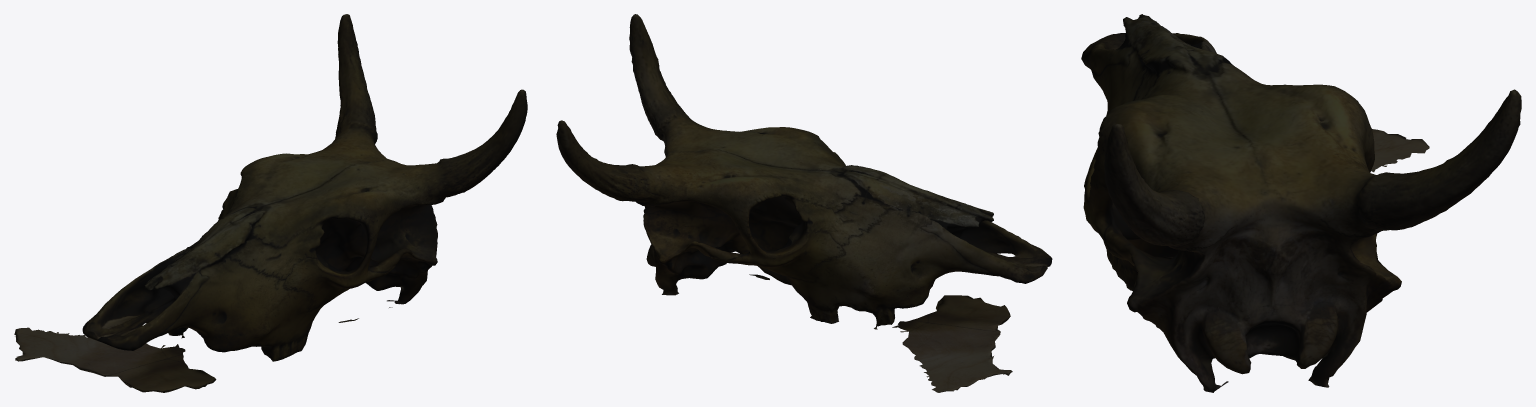
Rendered from model_obj-kalmyk.glb.
3 views of the same model, side by side, from view 1: azimuth 30°, elevation 25°; view 2: azimuth 150°, elevation 25°; view 3: azimuth 270°, elevation 25° (orthographic). The views are drawn at different scales.
Parts seen in each view (by area): view 1: Node1; view 2: Node1; view 3: Node1.
Boxes of the visible parts, bbox=[...] form: Node1: bbox=[14, 14, 527, 392]; Node1: bbox=[556, 14, 1052, 392]; Node1: bbox=[1081, 14, 1521, 392].
Bounding box in the file's own units: 0.5322 × 0.241 × 0.2868.
Materials: 1 (1 with a texture image).
